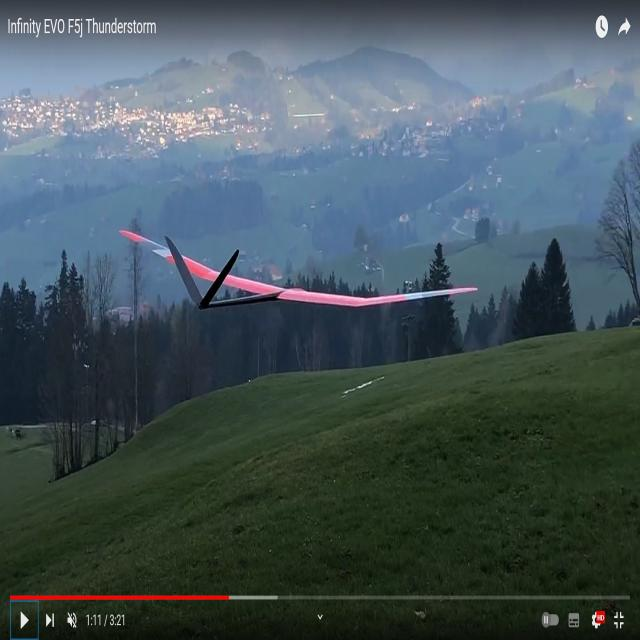iha: (120, 254, 480, 310)
